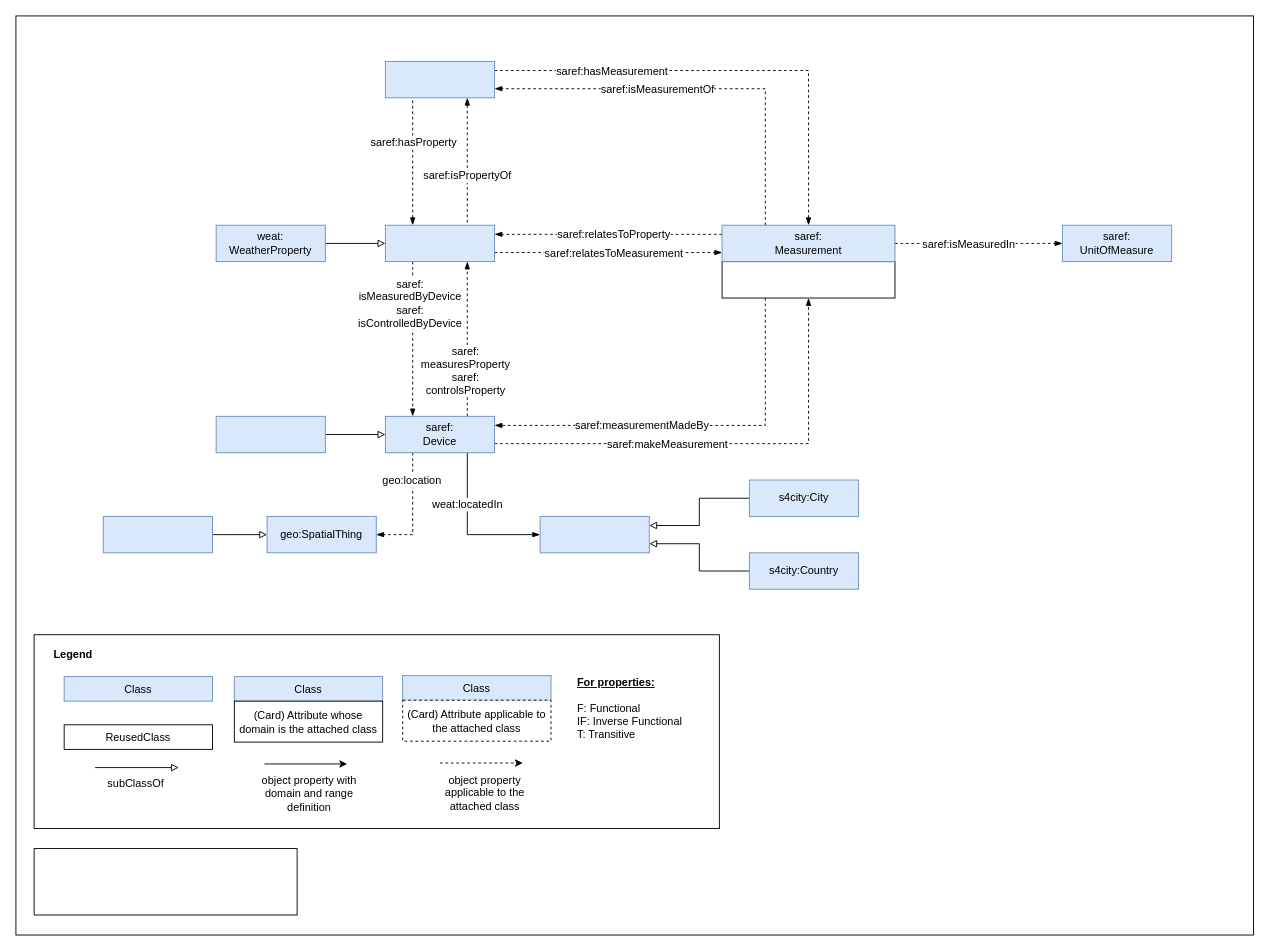
The diagram is 1269 pixels wide and 951 high, and some of its shapes have lost their labels. Here are the shapes that lost their labels. From the top down, the centre of each, then its label:
At point (439, 79): "saref: FeatureOfInterest".
At point (439, 243): "saref:Property".
At point (808, 279): "saref:hasTimeStamp::xsd:dateTime".
At point (270, 434): "saref: Sensor".
At point (157, 534): "geo:Point".
At point (594, 534): "s4city. AdministrativeArea".
At point (165, 881): "Ontology: weat: https://bimerr.iot.linkeddata.es/def/weat# (URI to be defined)".
